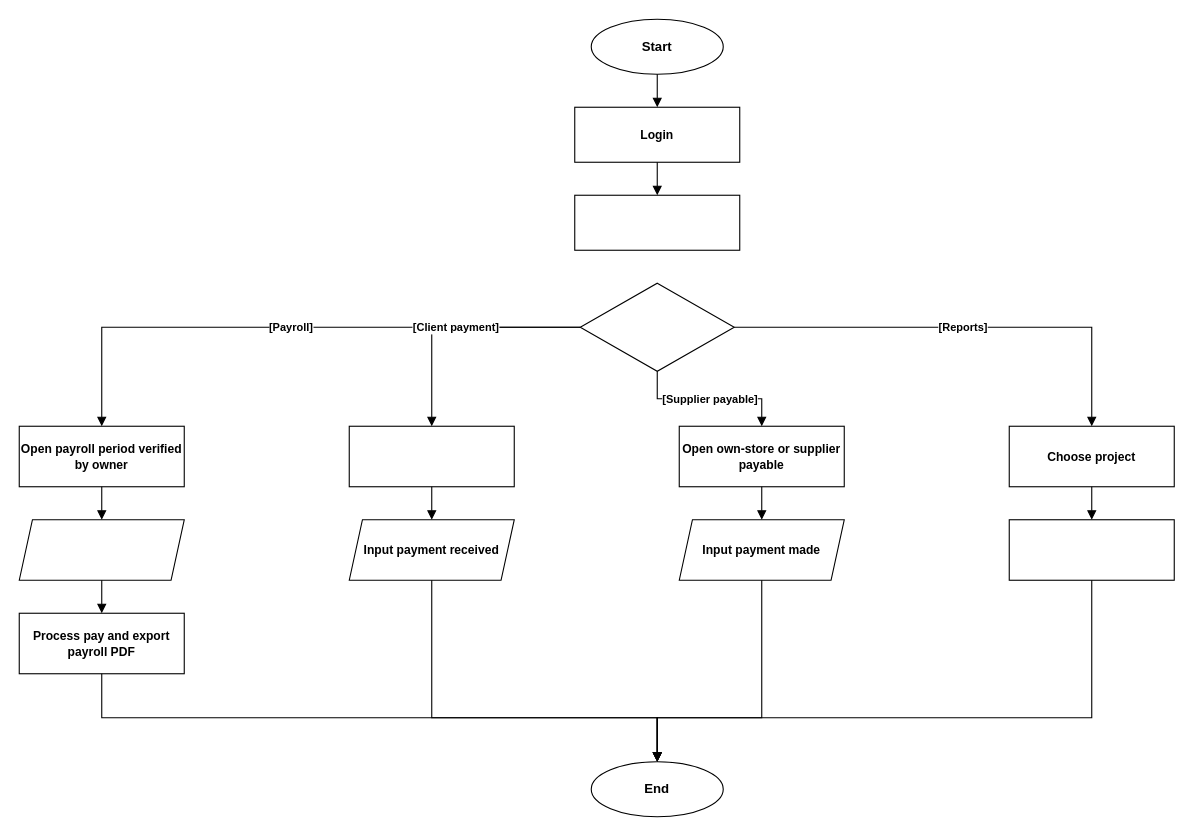
The diagram is 1194 pixels wide and 836 high, and some of its shapes have lost their labels. Each missing label, with the centre of its shape:
"Generate expense report and export PDF" goes at point (1091, 549).
"Input cash advances and deductions" goes at point (101, 549).
"Open billing approved by client" goes at point (431, 456).
"Task?" goes at point (656, 326).
"View accounting dashboard" goes at point (657, 222).
